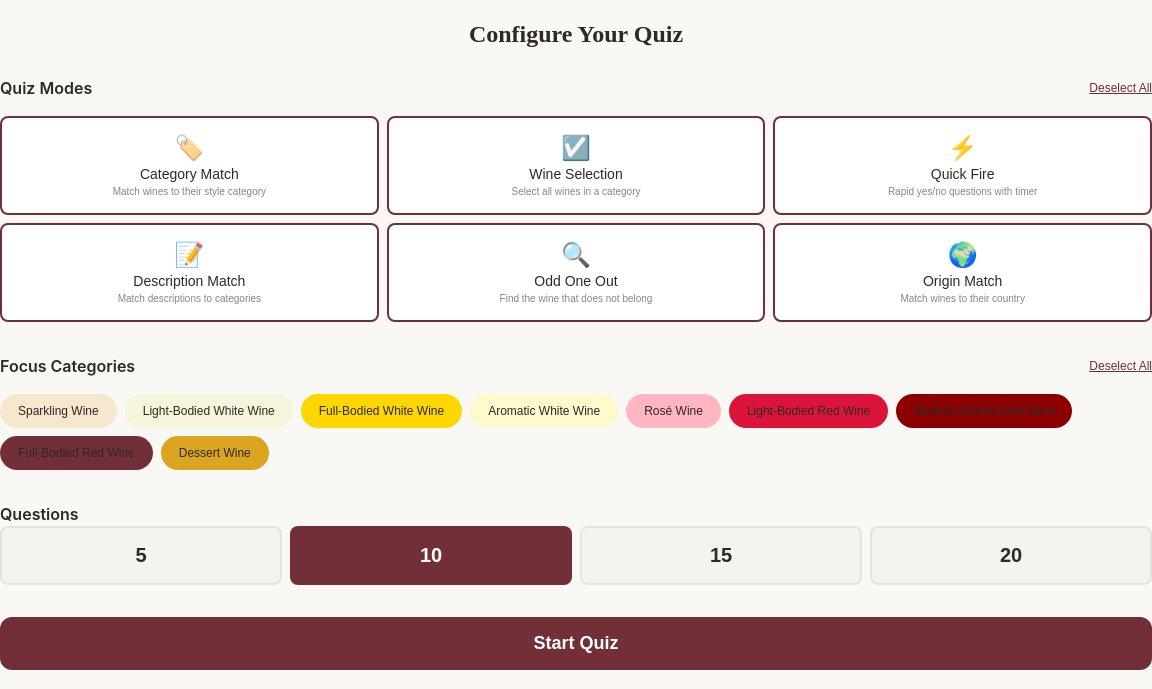
Scenario: QuizModeSelector › keeps Select All derived from the actual selected state
The width and height of the screenshot is (1152, 689).
Click the button "Deselect All" in the row of "Quiz Modes": (1121, 88) [1089, 81, 1151, 95]
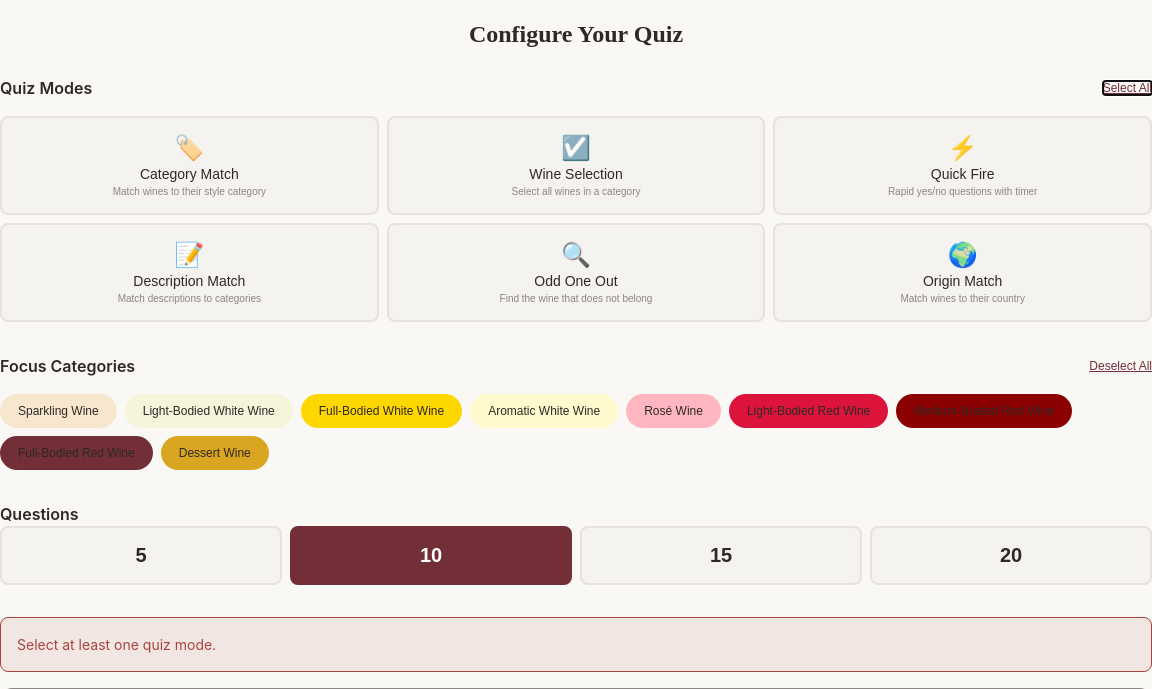
Expected: the text "Select at least one quiz mode." is shown, [17, 636, 216, 653]
Click the button "Select All": (1127, 88) [1103, 81, 1151, 95]
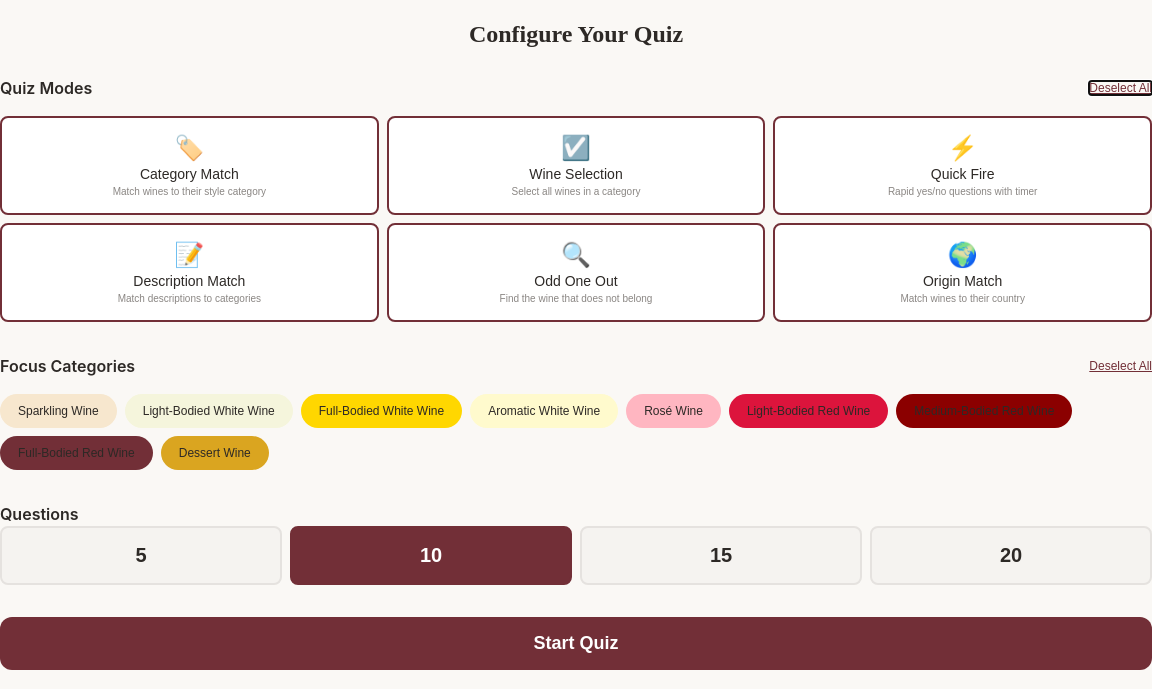
Expected: the text "Select at least one quiz mode." is gone
